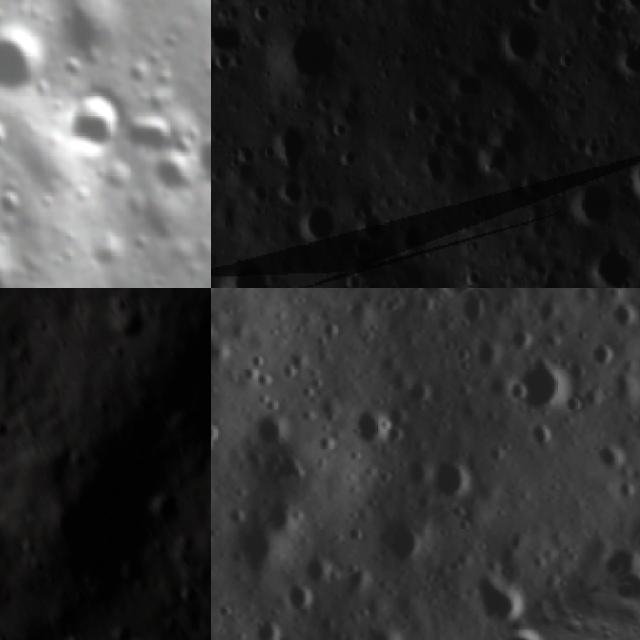crater: (42, 76, 139, 168), (449, 559, 537, 637), (497, 342, 579, 422), (0, 12, 61, 115), (274, 14, 348, 94), (112, 100, 191, 174), (169, 103, 211, 212), (368, 507, 431, 572), (416, 446, 480, 508), (490, 12, 552, 68), (243, 403, 299, 459), (341, 394, 390, 453), (565, 180, 618, 233), (264, 119, 316, 172), (583, 239, 639, 288), (293, 539, 341, 592), (292, 202, 342, 251), (587, 432, 636, 482), (211, 251, 274, 288), (140, 483, 188, 529), (334, 552, 380, 598), (211, 12, 249, 67), (599, 364, 640, 411), (349, 210, 393, 253), (450, 288, 495, 330), (609, 28, 640, 88), (396, 220, 436, 266), (275, 576, 316, 620), (582, 332, 623, 373), (603, 293, 640, 336), (399, 288, 456, 314), (274, 174, 308, 211), (499, 375, 533, 412), (358, 615, 403, 640), (402, 93, 432, 129), (608, 474, 640, 507), (0, 99, 15, 168), (624, 152, 640, 203), (430, 288, 488, 302), (211, 412, 226, 458)
